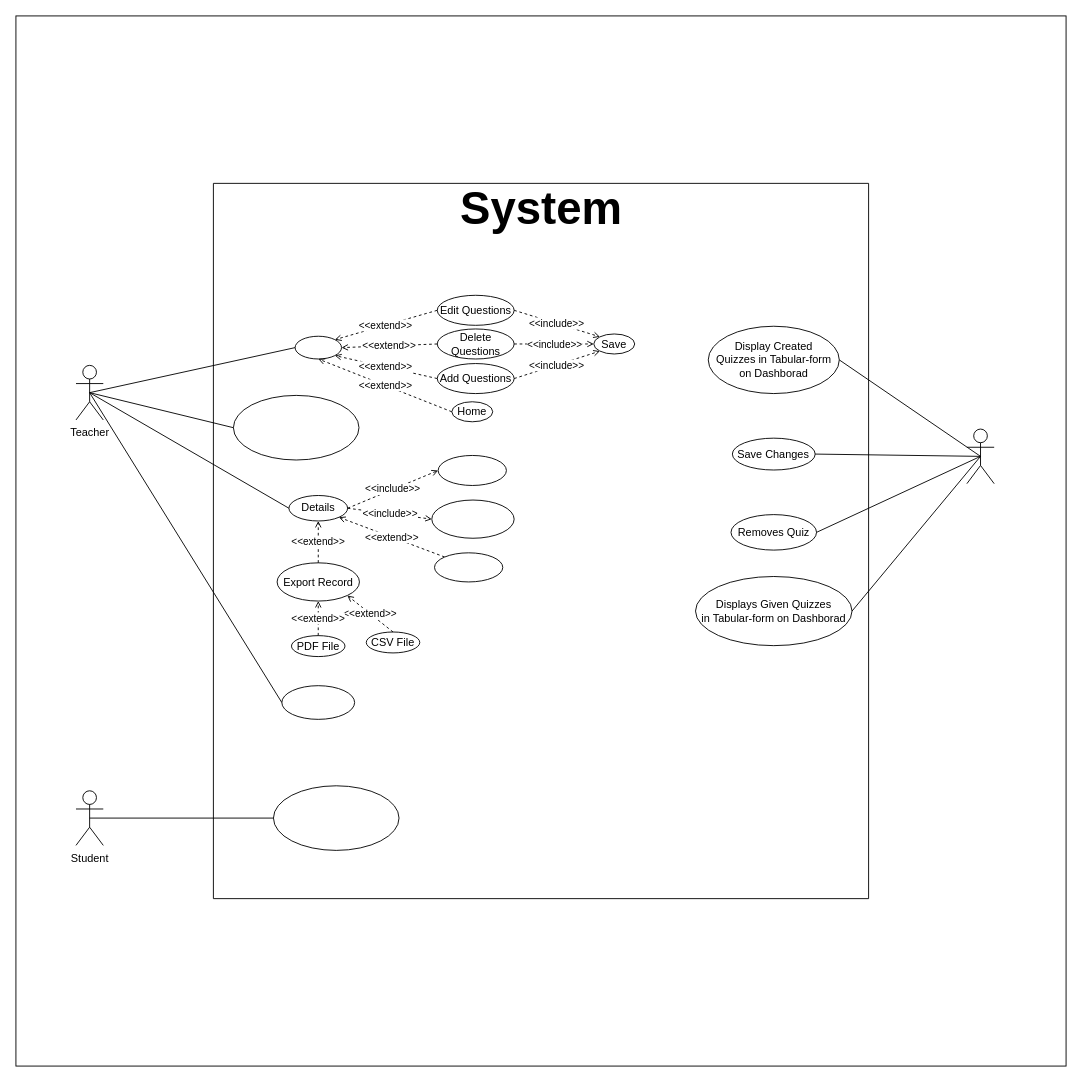
Some shapes in this 1082 by 1082 pixel diagram are drawn without their labels. Each missing label, with the centre of its shape:
Admin: point (980, 456)
Answers Records: point (468, 567)
Delete Quiz: point (318, 702)
Edit: point (318, 347)
View Quiz Details: point (471, 470)
View Student Records: point (472, 518)
View Title, Code(ID) & Date of Creation of Created Quizzes: point (296, 427)
View Title, Score & Submittion Date of Given Quizzes: point (336, 817)
